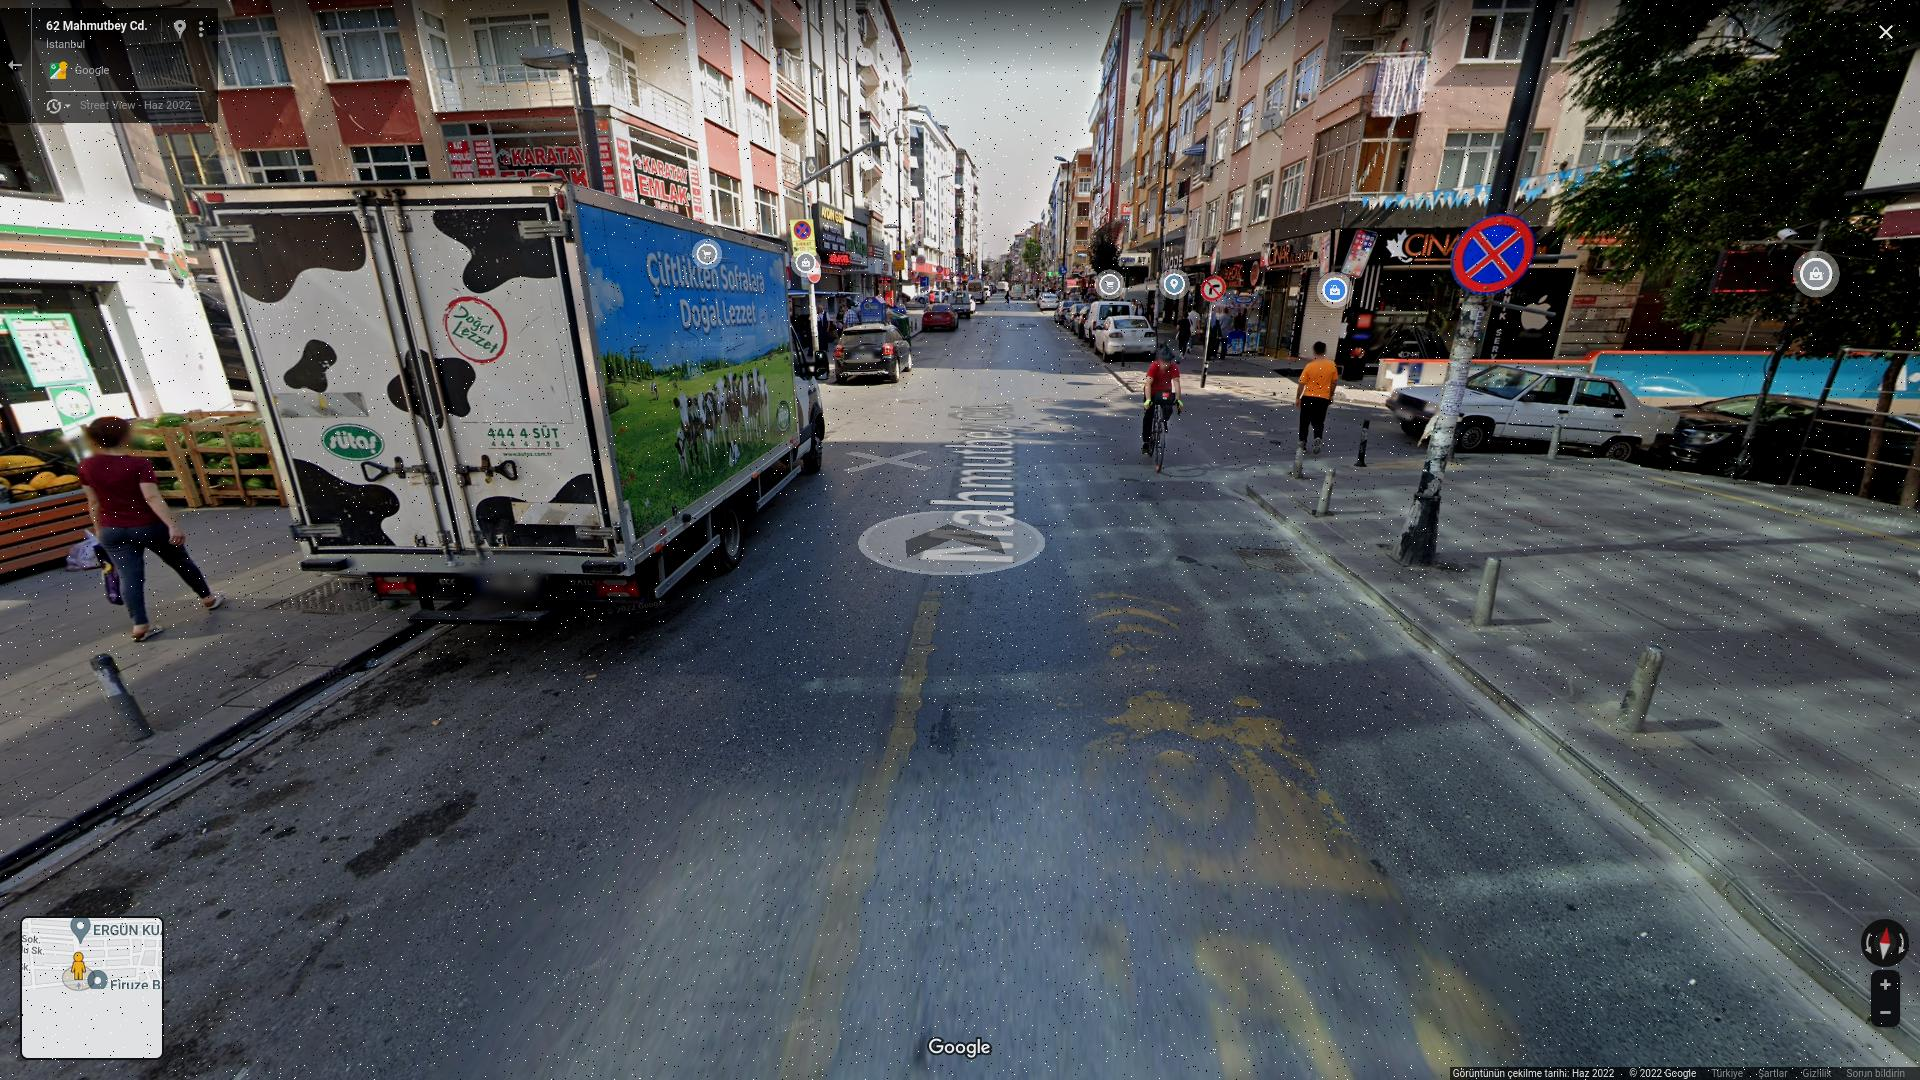rightturnsareforbidden: (1201, 277, 1226, 301)
